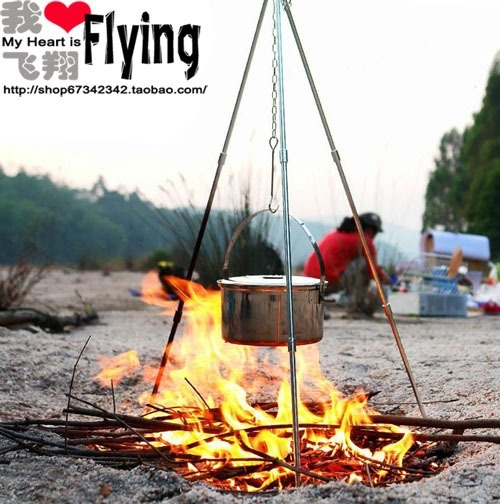fire: (106, 265, 408, 504)
